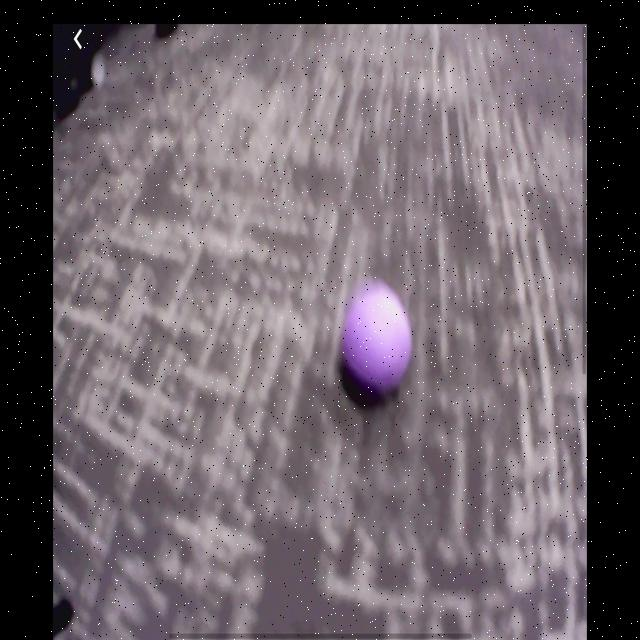ball: (340, 279, 414, 405)
